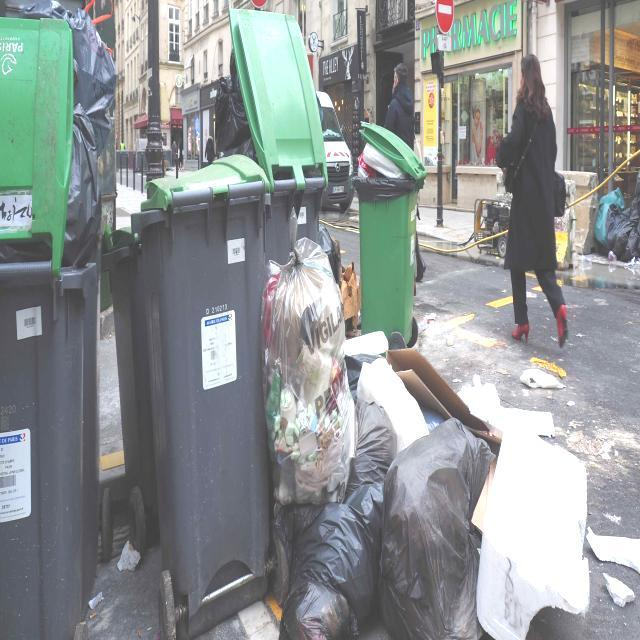high trash: (264, 240, 590, 640)
less trash: (586, 528, 640, 573), (520, 358, 566, 389), (603, 572, 635, 607)
